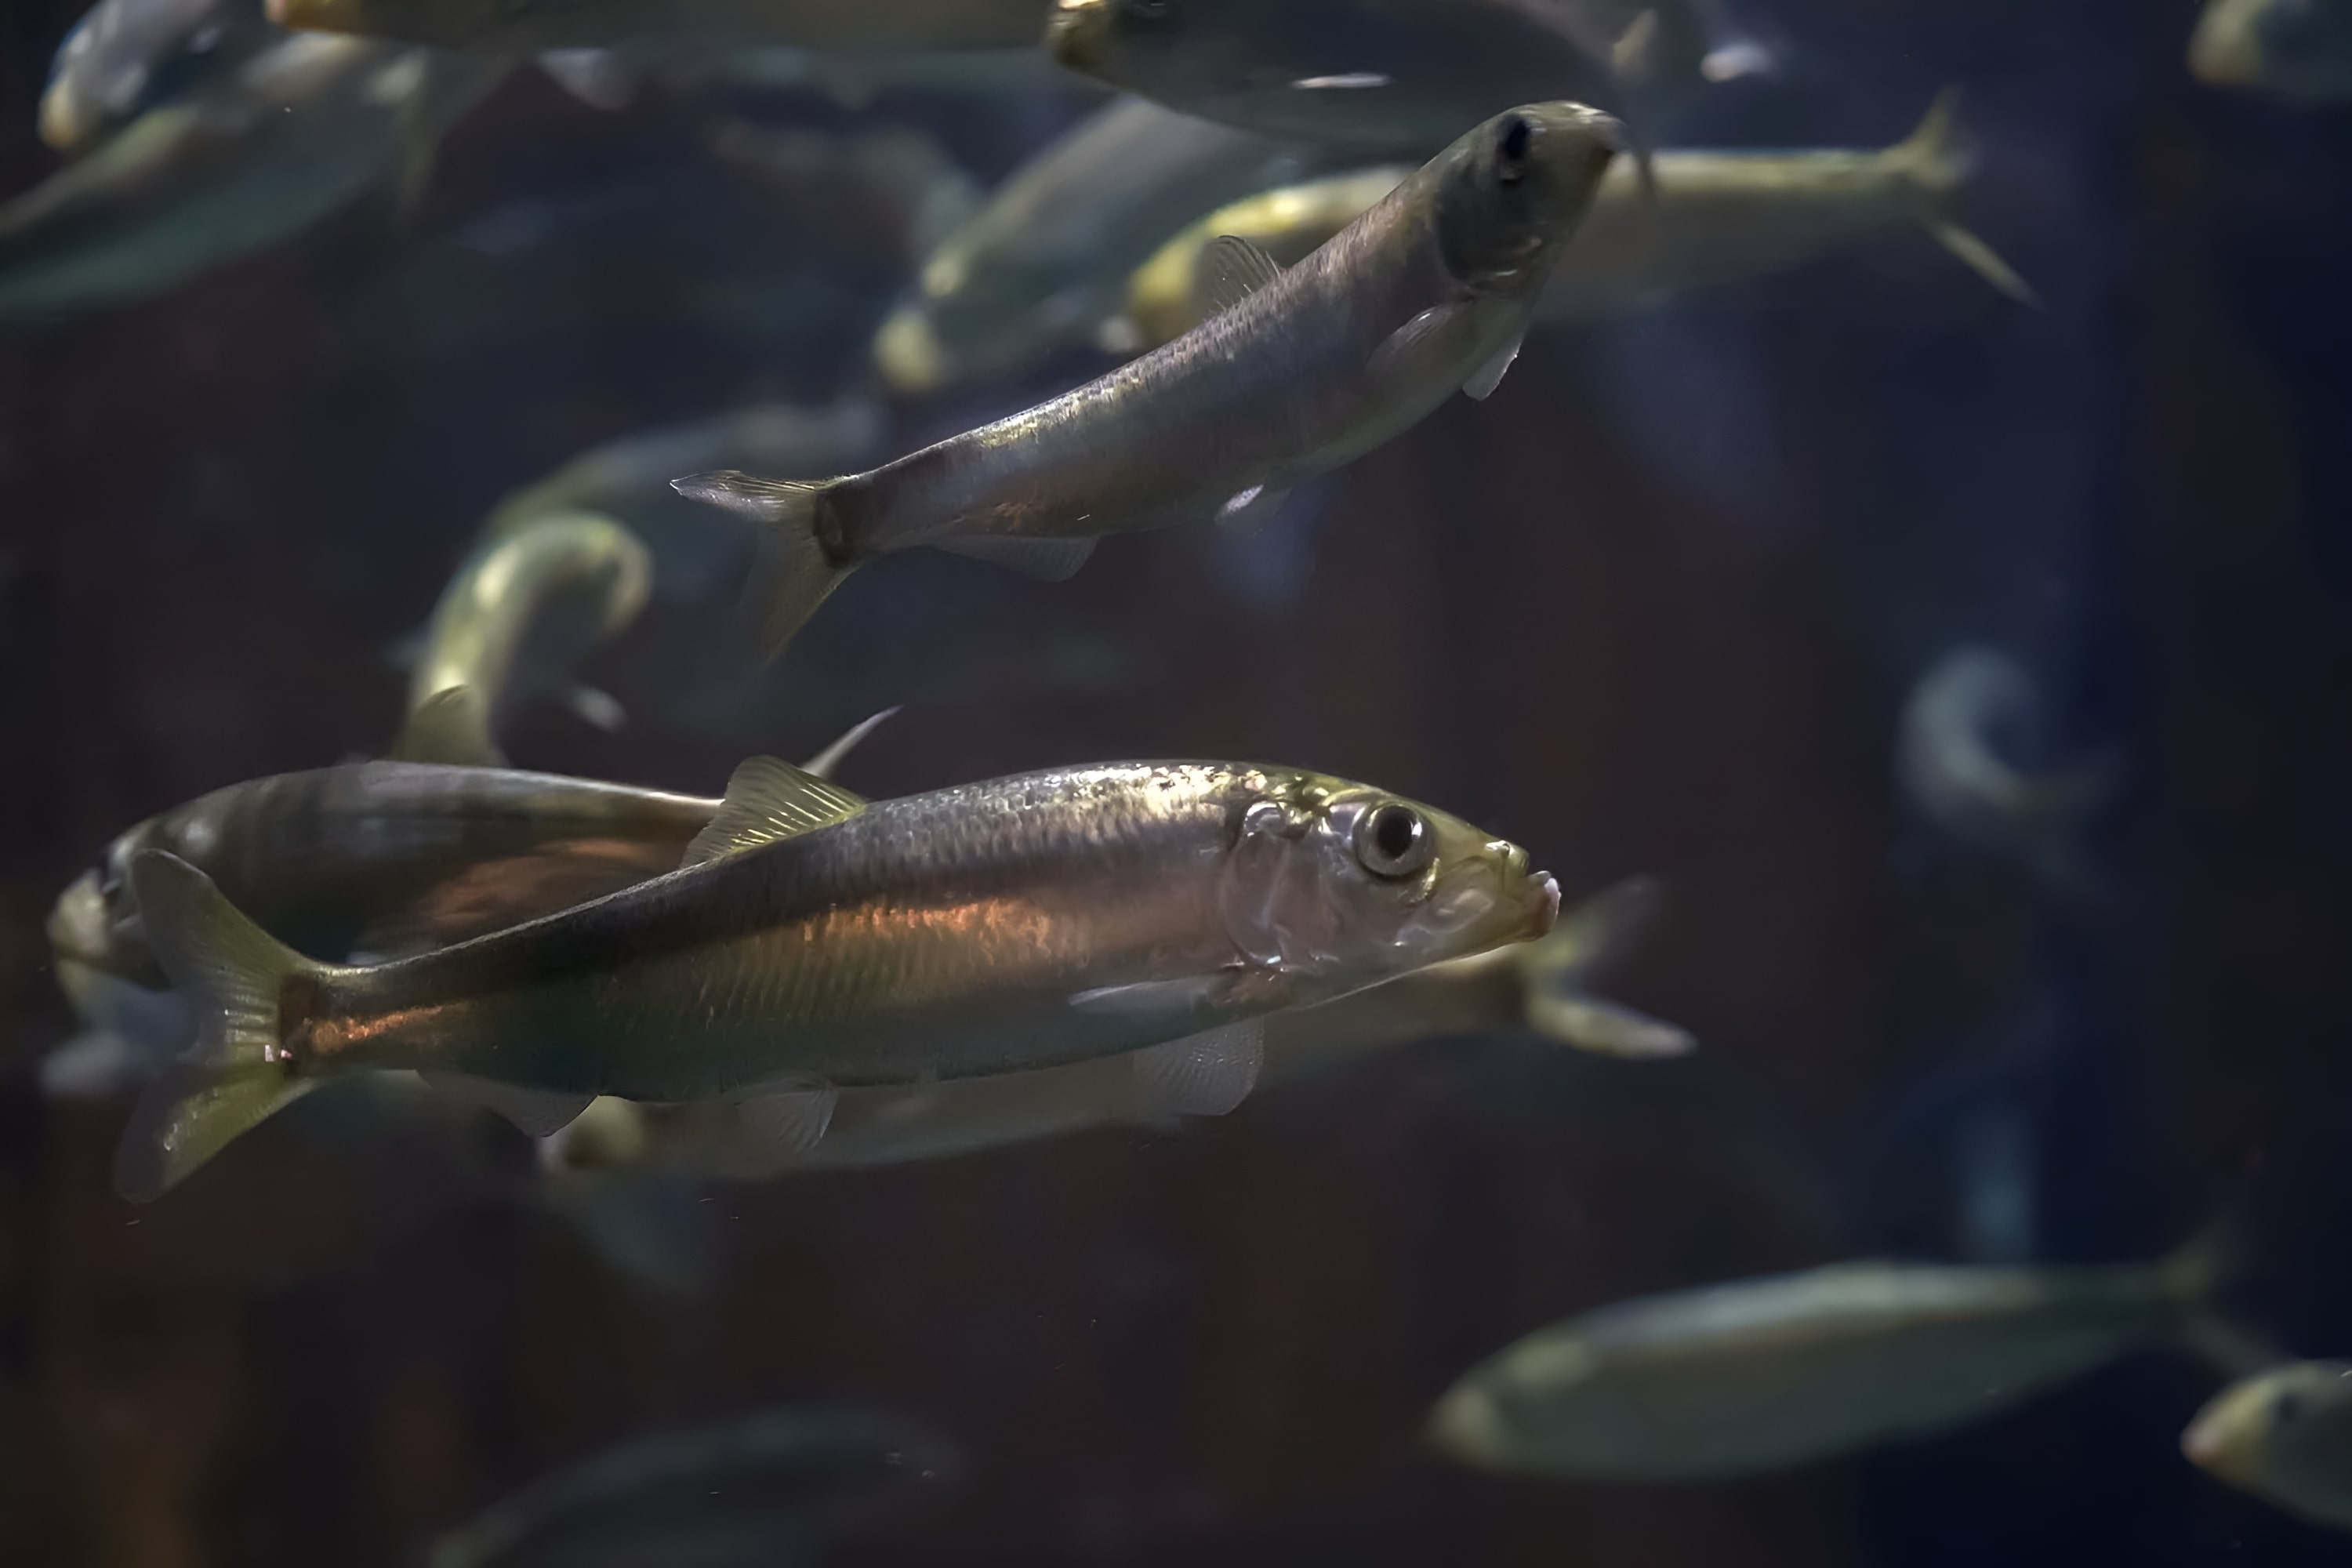Pecific herring: (108, 726, 1575, 1123), (670, 82, 1636, 681), (1412, 1211, 2257, 1477)
